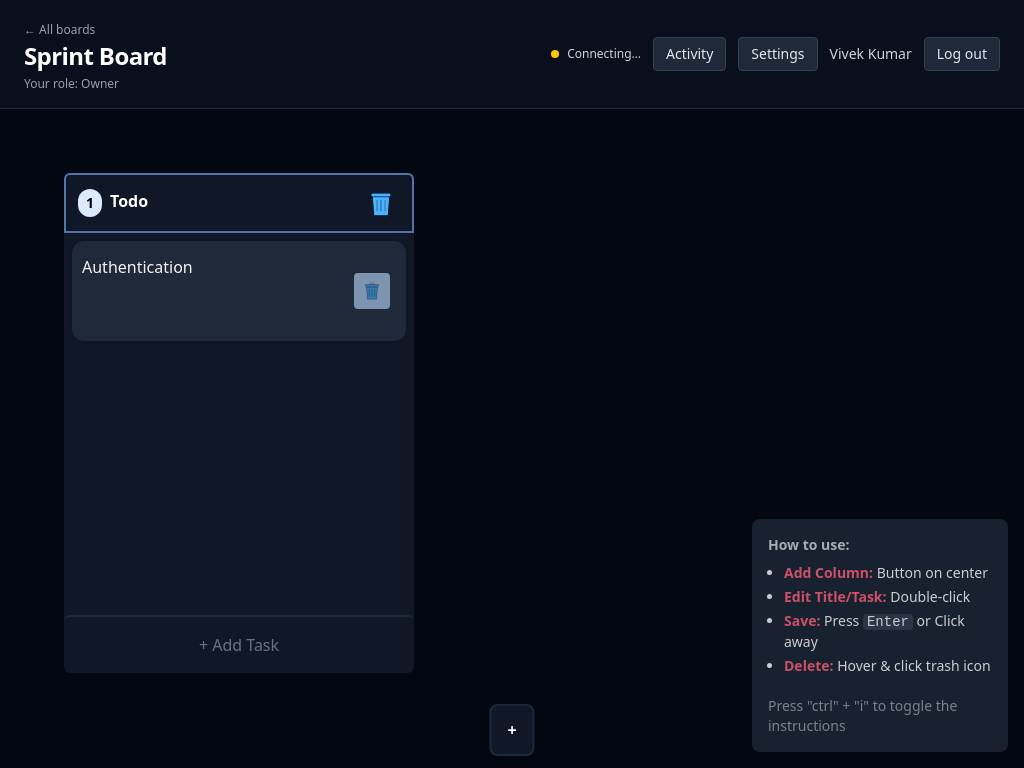
Scenario: board activity drawer › opens from the header, loads the board's feed, and shows who did what ("You" for the signed-in user)
Expected: the text "Authentication" is shown, [82, 256, 193, 278]
Click the button "Activity".
click(690, 54)  # box [653, 37, 726, 71]
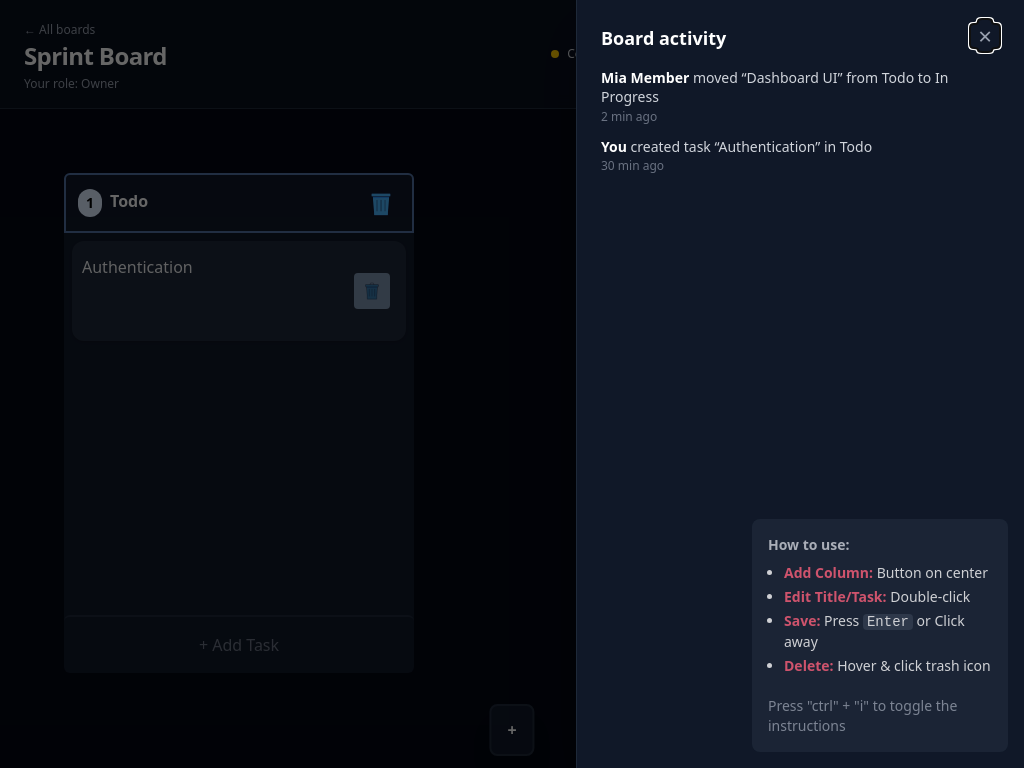
Now the list item "moved “Dashboard UI” from Todo to In Progress" is shown, box [601, 68, 948, 106]
Now the text "Mia Member" is shown, box [601, 68, 689, 87]
Now the text "You" is shown, box [601, 136, 627, 156]
